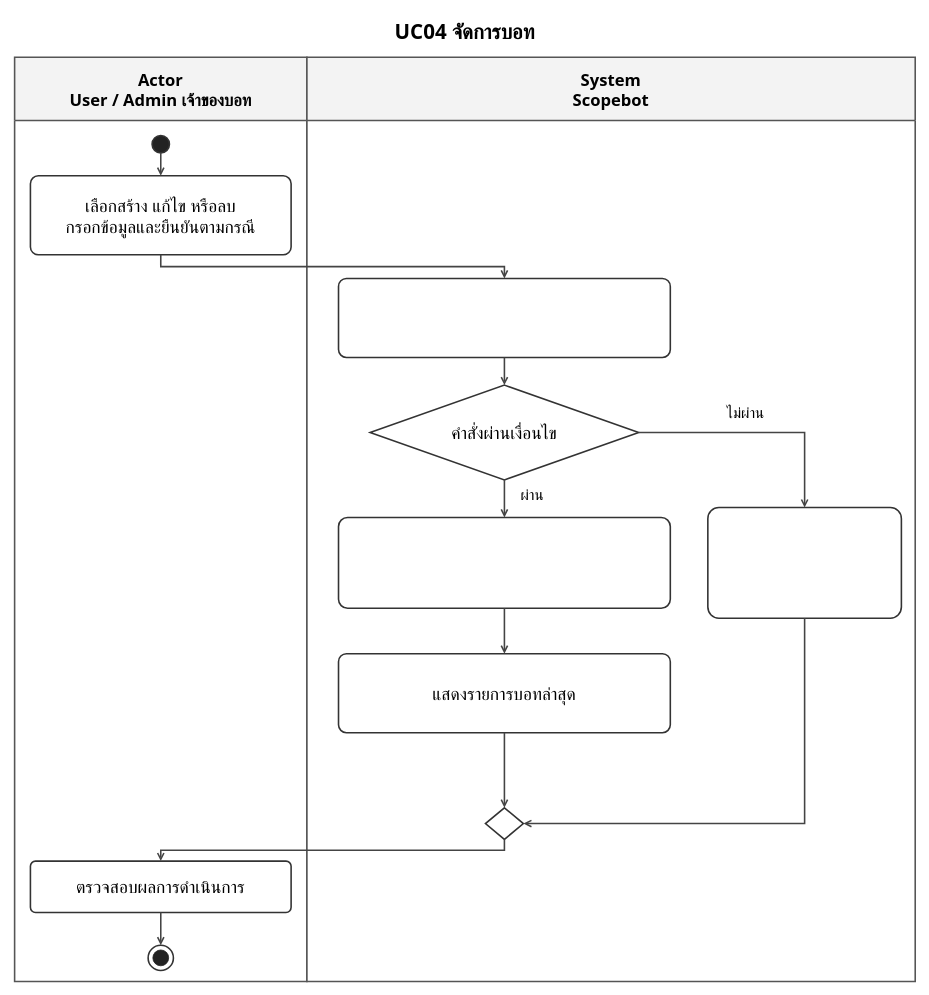
This 929x995 diagram has some shape labels left out. The shapes that lost their labels are listed below. From the top down, each one's centre as x and y in pixels, then its label:
At point (504, 317): "ตรวจข้อมูลและเจ้าของ ตรวจโควต้าเมื่อสร้างบอท".
At point (504, 562): "สร้าง แก้ไข หรือลบบอท พร้อมข้อมูลที่เกี่ยวข้อง".
At point (804, 562): "แจ้งสาเหตุ หรือยกเลิกคำสั่ง ไม่ดำเนินการ".
